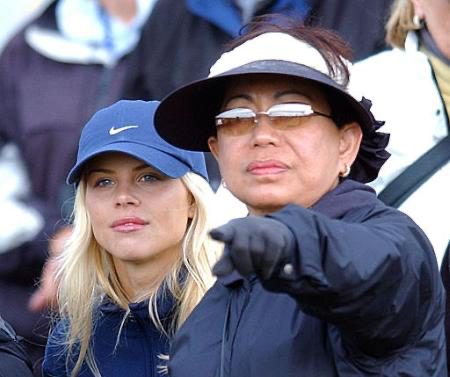Face: (217, 88, 330, 216), (77, 148, 189, 258)
